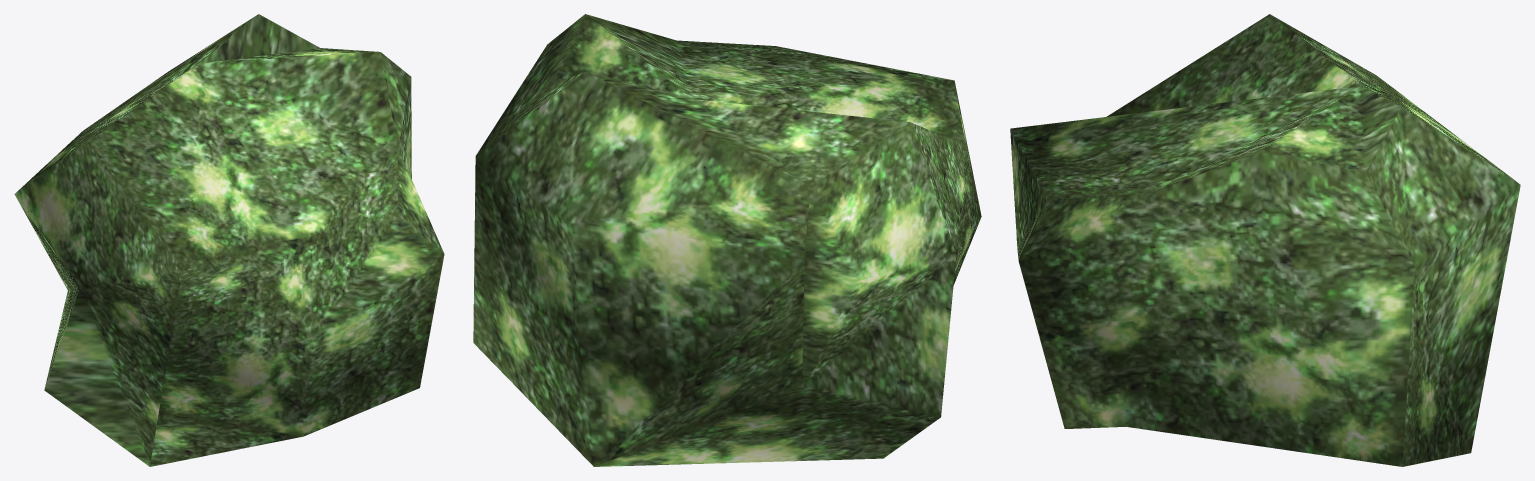
File: asteroid_acid_small_s01_l3.fbx
The picture shows the model from 3 angles, left to right: view 1: azimuth 30°, elevation 25°; view 2: azimuth 150°, elevation 25°; view 3: azimuth 270°, elevation 25°; orthographic projection. The views are drawn at different scales.
Visible parts, largest first — view 1: mesh_node; view 2: mesh_node; view 3: mesh_node.
Part boxes in pixels (left/top/right/bottom): mesh_node: left=14, top=14, right=444, bottom=466; mesh_node: left=473, top=14, right=981, bottom=466; mesh_node: left=1010, top=14, right=1520, bottom=466.
Bounding box in the file's own units: 24.01 × 22.26 × 25.35.
1 material, 1 textured.
